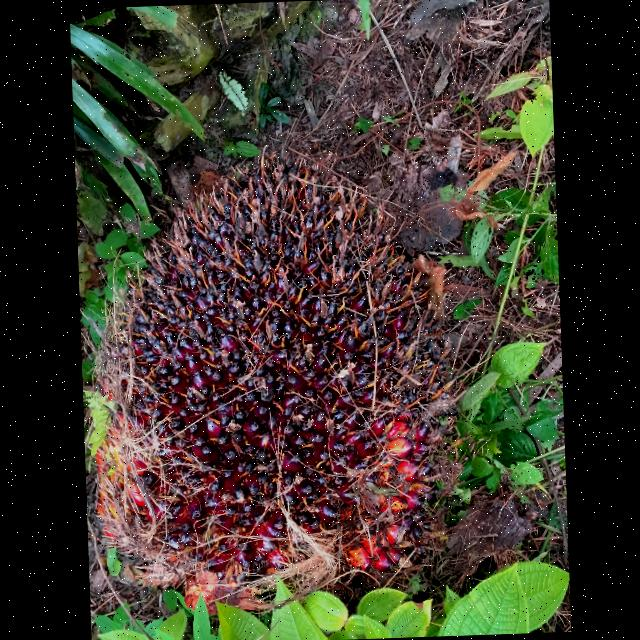Unripe: (112, 165, 439, 583)
